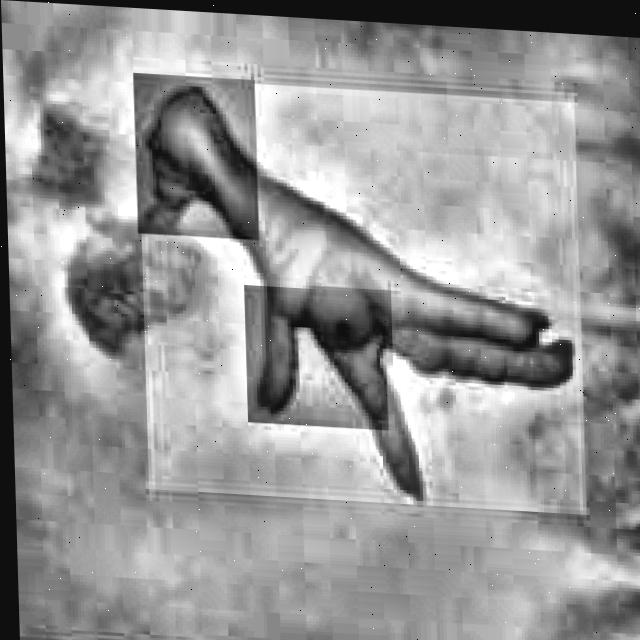Bumble foot: (136, 75, 579, 503)
